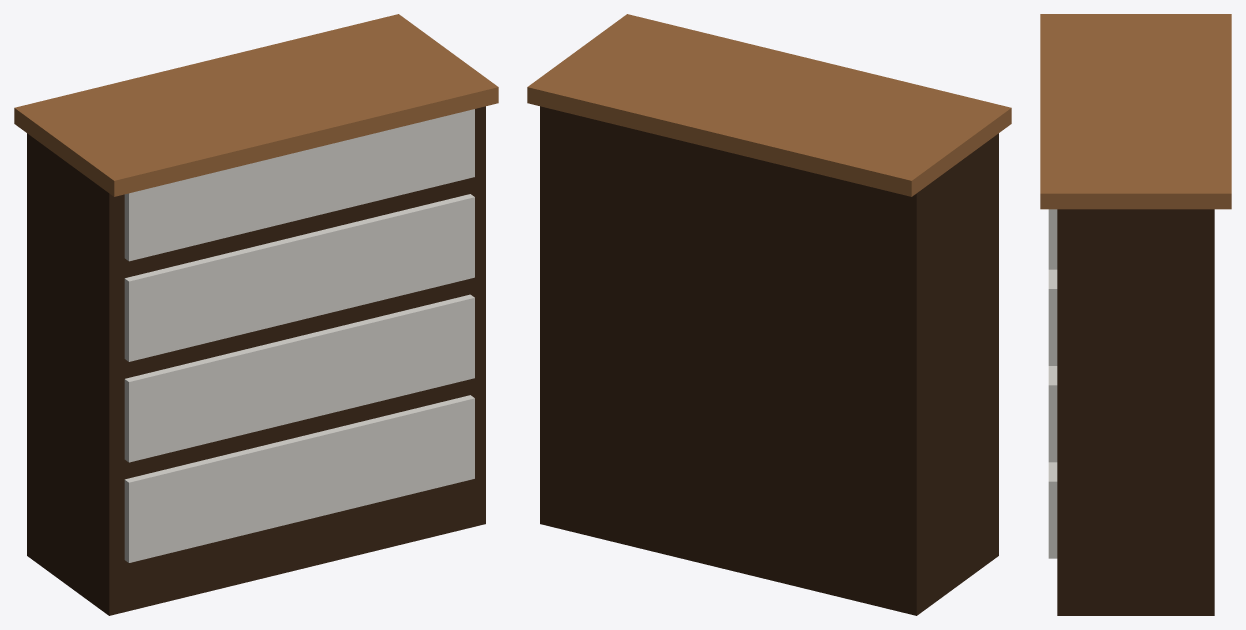
File: chestdrawer-lite.glb
The picture shows the model from 3 angles, left to right: view 1: azimuth 30°, elevation 25°; view 2: azimuth 150°, elevation 25°; view 3: azimuth 270°, elevation 25°; orthographic projection. The views are drawn at different scales.
Parts seen in each view (by area): view 1: material-1-drawer, material-0-body, material-2-top; view 2: material-0-body, material-2-top; view 3: material-0-body, material-2-top, material-1-drawer.
Boxes of the visible parts, bbox=[...] form: material-1-drawer: bbox=[124, 109, 474, 562]; material-0-body: bbox=[27, 106, 485, 615]; material-2-top: bbox=[14, 14, 498, 196]; material-0-body: bbox=[540, 106, 998, 615]; material-2-top: bbox=[527, 14, 1011, 196]; material-0-body: bbox=[1057, 209, 1214, 615]; material-2-top: bbox=[1040, 14, 1231, 209]; material-1-drawer: bbox=[1048, 209, 1057, 558].
Size of the model in its own units: 1 by 1.1 by 0.45.
